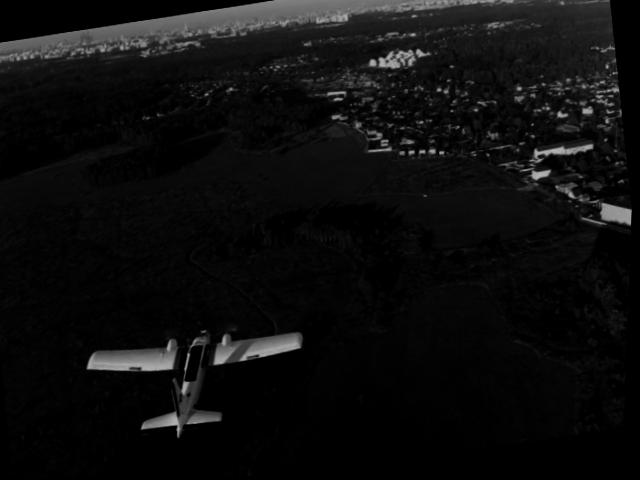hedef: (68, 301, 327, 463)
